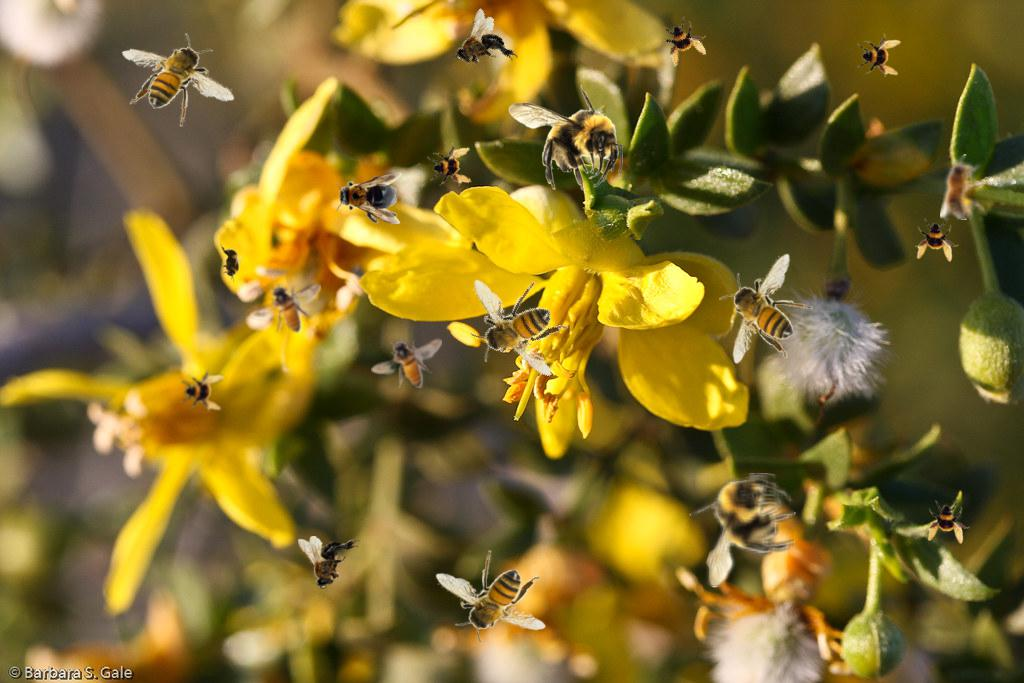Bee: (444, 257, 585, 391), (689, 473, 796, 588), (508, 84, 623, 191), (120, 30, 237, 130), (435, 550, 546, 644), (719, 253, 813, 364), (441, 6, 522, 88), (654, 11, 714, 71), (250, 283, 321, 333), (371, 338, 442, 388), (334, 172, 402, 224), (298, 536, 360, 589), (940, 154, 985, 220), (425, 140, 475, 190), (180, 368, 224, 412), (915, 218, 959, 262), (926, 500, 970, 544), (857, 33, 901, 77), (220, 243, 242, 283)
